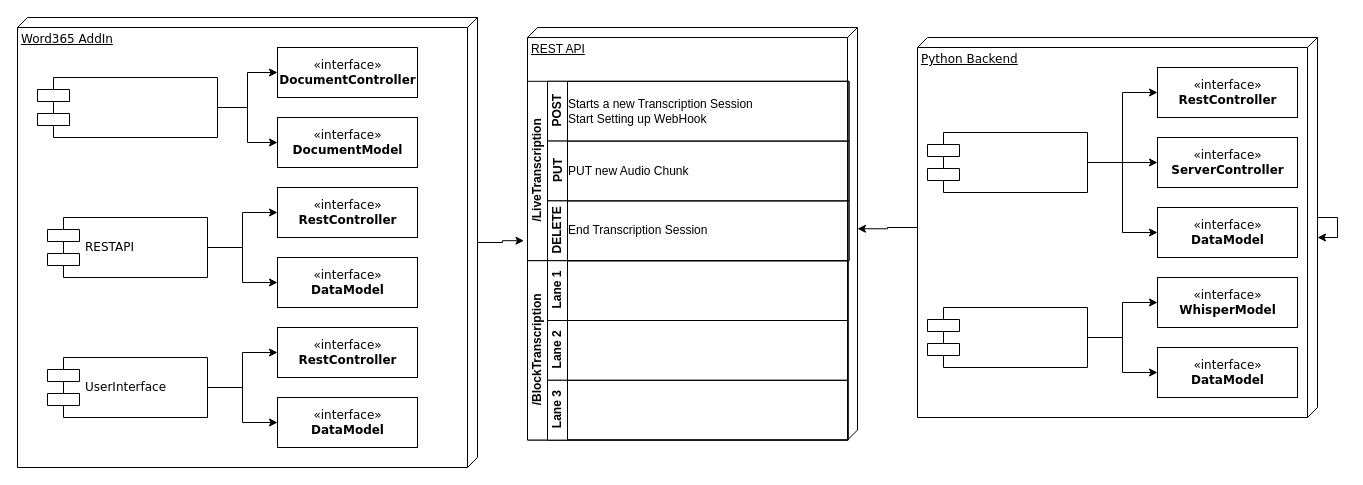
This 1363x485 diagram has some shape labels left out. The centre of each missing label's shape, as x and y in pixels:
DocumentInteractions: point (127, 107)
ServerControls: point (1007, 162)
TranscriptionModel: point (1007, 337)
